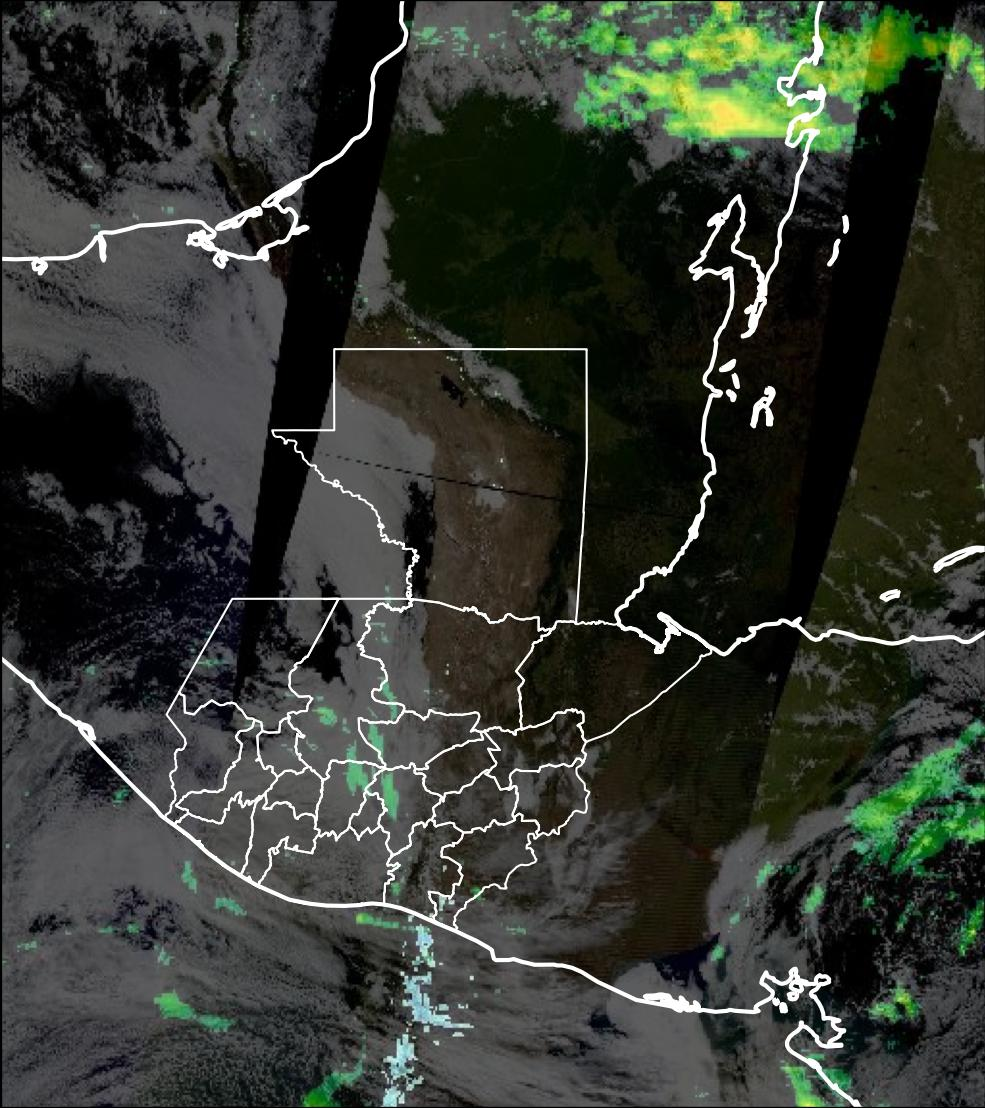precipitacion: (698, 90, 762, 144)
